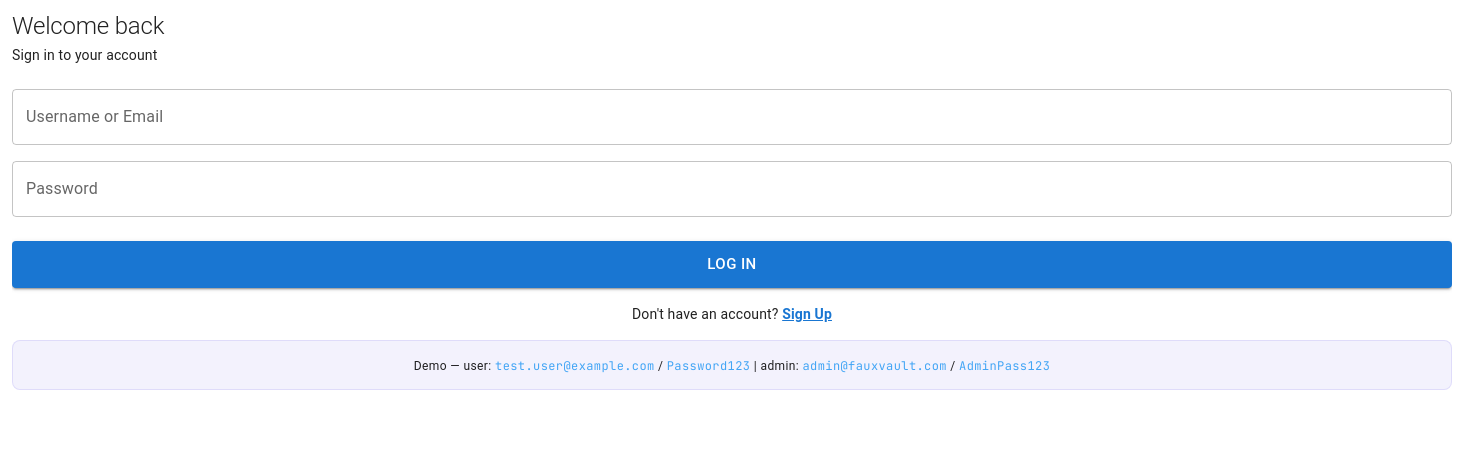
LoginPage — form validation › shows an error when both fields are empty on submit
Click the button "Log In": (732,264) x1=12 y1=241 x2=1452 y2=288
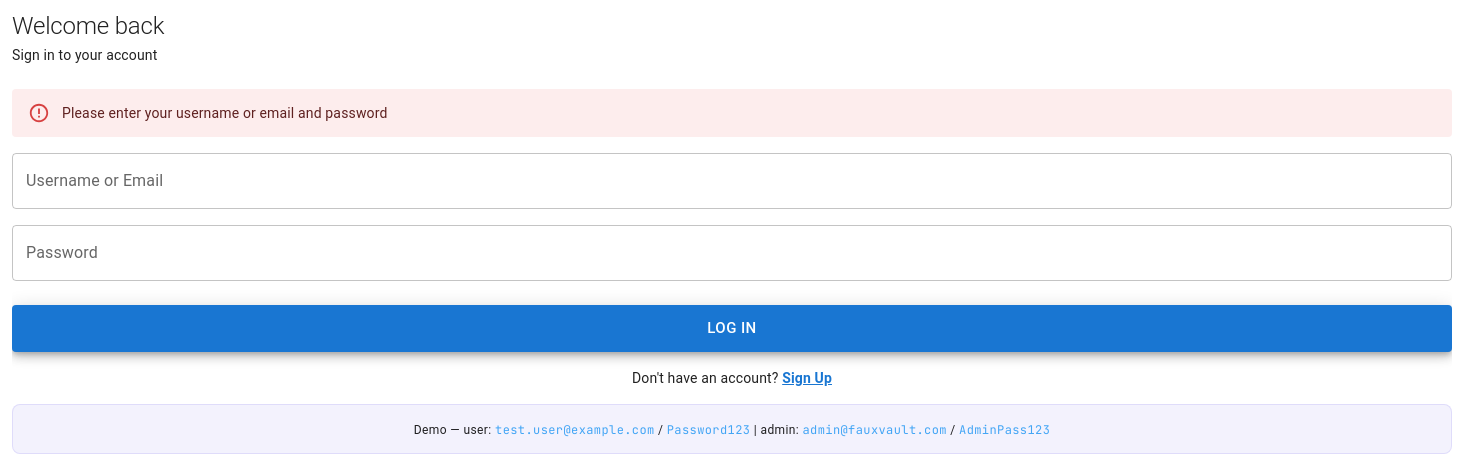
Expected: the message "Please enter your username or email and password" is shown, x1=12 y1=89 x2=1452 y2=137
